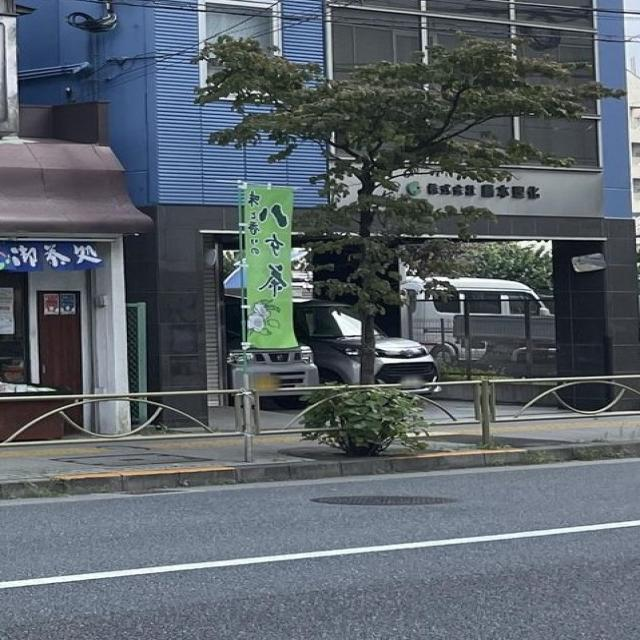dogwood: (189, 26, 630, 455)
